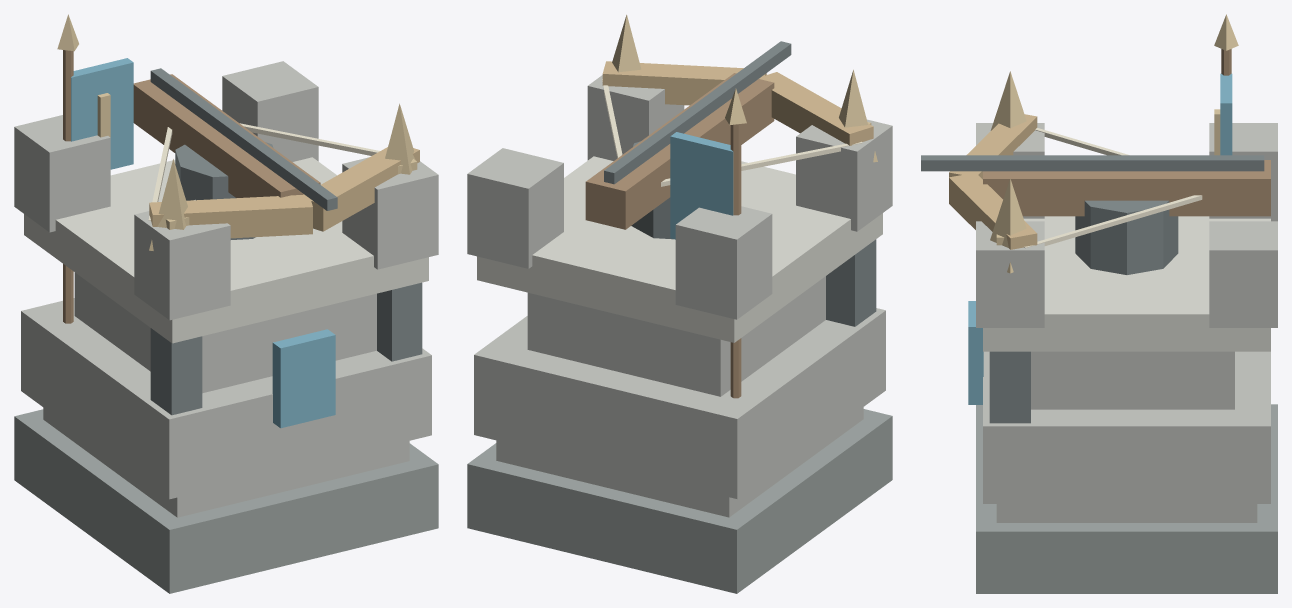
The model's file is human_ballista_t5.glb.
The picture shows the model from 3 angles, left to right: view 1: azimuth 30°, elevation 25°; view 2: azimuth 150°, elevation 25°; view 3: azimuth 270°, elevation 25°; orthographic projection. The views are drawn at different scales.
Parts seen in each view (by area): view 1: human_ballista_t5_MAT_stone, human_ballista_t5_MAT_dark, human_ballista_t5_MAT_light, human_ballista_t5_MAT_iron, human_ballista_t5_MAT_blue, human_ballista_t5_MAT_wood, human_ballista_t5_MAT_edge, human_ballista_t5_MAT_gold, human_ballista_t5_MAT_white; view 2: human_ballista_t5_MAT_stone, human_ballista_t5_MAT_dark, human_ballista_t5_MAT_light, human_ballista_t5_MAT_wood, human_ballista_t5_MAT_iron, human_ballista_t5_MAT_edge, human_ballista_t5_MAT_blue, human_ballista_t5_MAT_gold, human_ballista_t5_MAT_white; view 3: human_ballista_t5_MAT_stone, human_ballista_t5_MAT_dark, human_ballista_t5_MAT_light, human_ballista_t5_MAT_iron, human_ballista_t5_MAT_wood, human_ballista_t5_MAT_edge, human_ballista_t5_MAT_gold, human_ballista_t5_MAT_blue, human_ballista_t5_MAT_white.
Part boxes in pixels (<box>): human_ballista_t5_MAT_stone: <box>14,61,438,517</box>; human_ballista_t5_MAT_dark: <box>14,409,438,593</box>; human_ballista_t5_MAT_light: <box>24,157,428,343</box>; human_ballista_t5_MAT_iron: <box>150,68,422,415</box>; human_ballista_t5_MAT_blue: <box>71,58,335,428</box>; human_ballista_t5_MAT_wood: <box>63,50,320,323</box>; human_ballista_t5_MAT_edge: <box>149,147,419,238</box>; human_ballista_t5_MAT_gold: <box>57,14,417,250</box>; human_ballista_t5_MAT_white: <box>148,123,379,220</box>; human_ballista_t5_MAT_stone: <box>467,75,892,517</box>; human_ballista_t5_MAT_dark: <box>467,409,892,593</box>; human_ballista_t5_MAT_light: <box>477,156,882,342</box>; human_ballista_t5_MAT_wood: <box>585,73,774,398</box>; human_ballista_t5_MAT_iron: <box>604,41,876,326</box>; human_ballista_t5_MAT_edge: <box>602,61,873,145</box>; human_ballista_t5_MAT_blue: <box>670,132,733,239</box>; human_ballista_t5_MAT_gold: <box>612,14,877,162</box>; human_ballista_t5_MAT_white: <box>602,79,862,186</box>; human_ballista_t5_MAT_stone: <box>976,123,1277,522</box>; human_ballista_t5_MAT_dark: <box>976,404,1277,593</box>; human_ballista_t5_MAT_light: <box>983,216,1270,351</box>; human_ballista_t5_MAT_iron: <box>921,155,1264,423</box>; human_ballista_t5_MAT_wood: <box>983,49,1270,216</box>; human_ballista_t5_MAT_edge: <box>949,114,1037,249</box>; human_ballista_t5_MAT_gold: <box>990,14,1238,273</box>; human_ballista_t5_MAT_blue: <box>968,73,1232,404</box>; human_ballista_t5_MAT_white: <box>1024,128,1202,248</box>.
Bounding box in the file's own units: 0.9 × 1.5 × 1.04.
